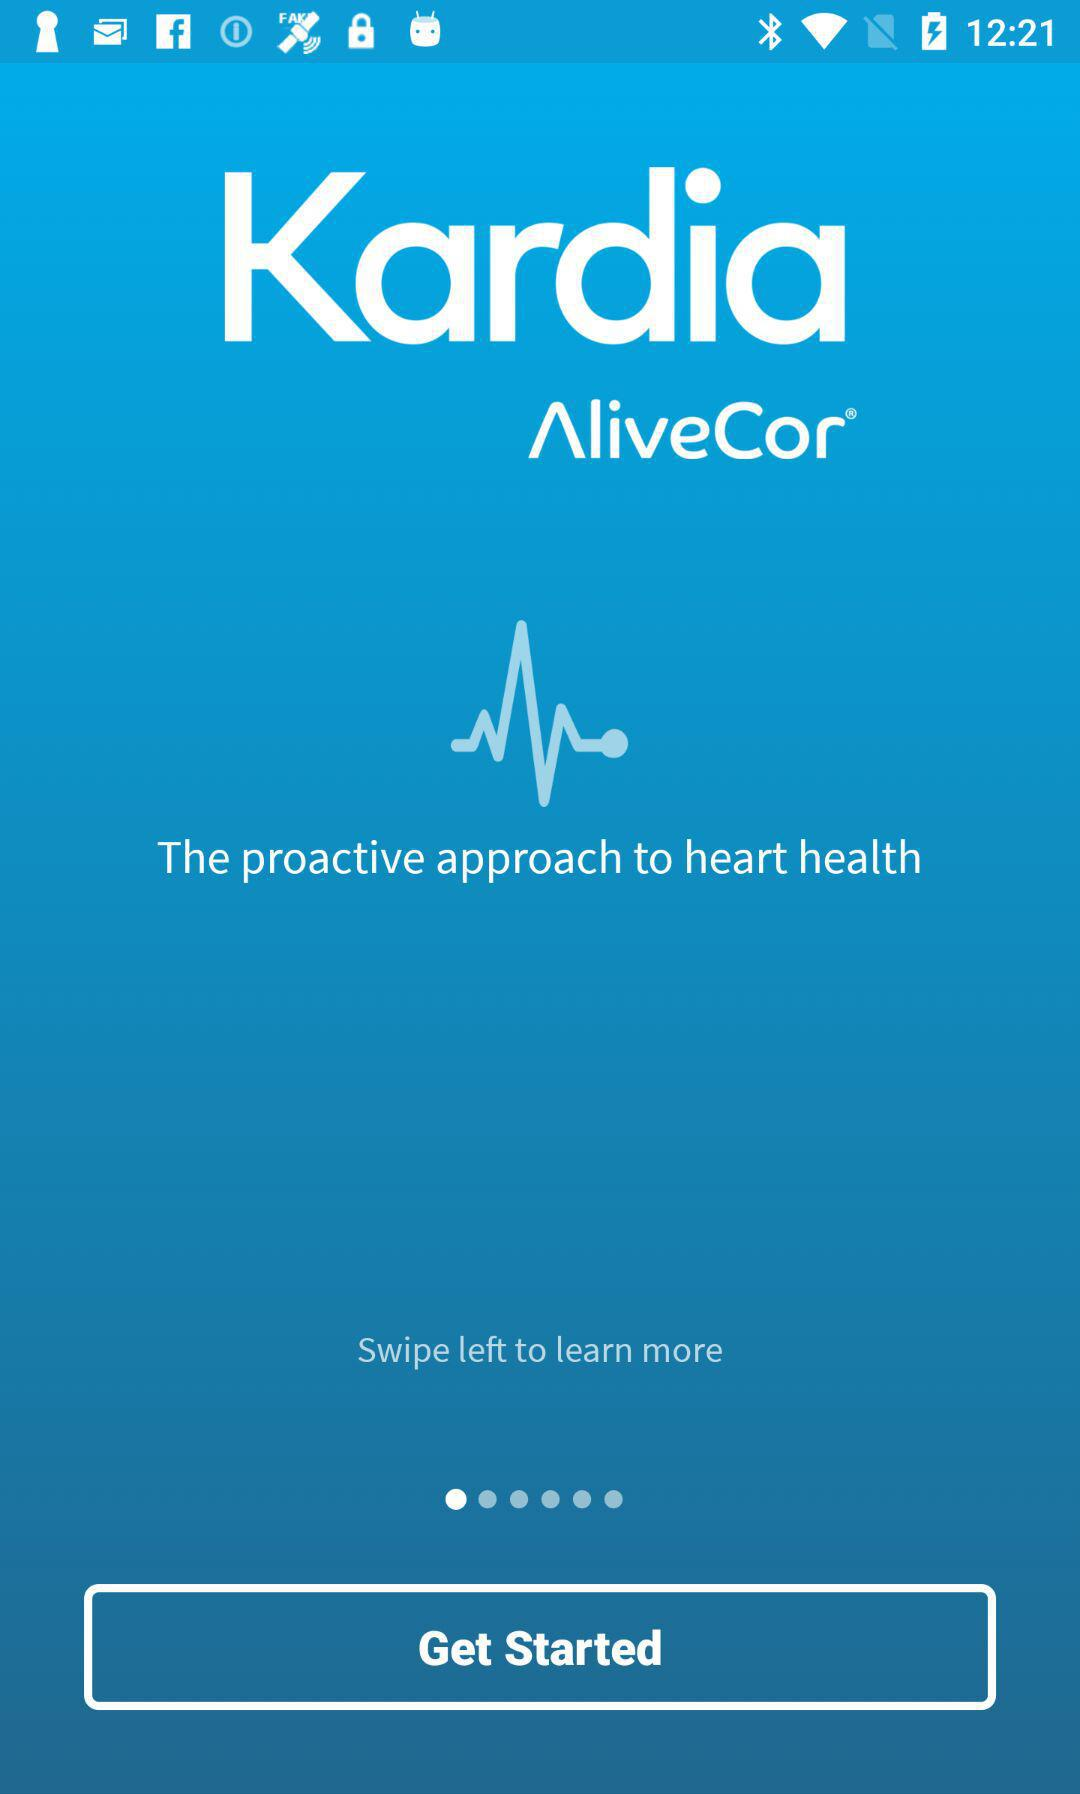Image: (451, 619, 630, 809), (527, 399, 858, 461)
PageIndicator: (445, 1488, 625, 1510)
Text: (224, 167, 846, 347), (158, 838, 921, 885), (357, 1335, 724, 1371)
TextButton: (85, 1583, 997, 1711)
UpperTaskBar: (1, 1, 1080, 64)
